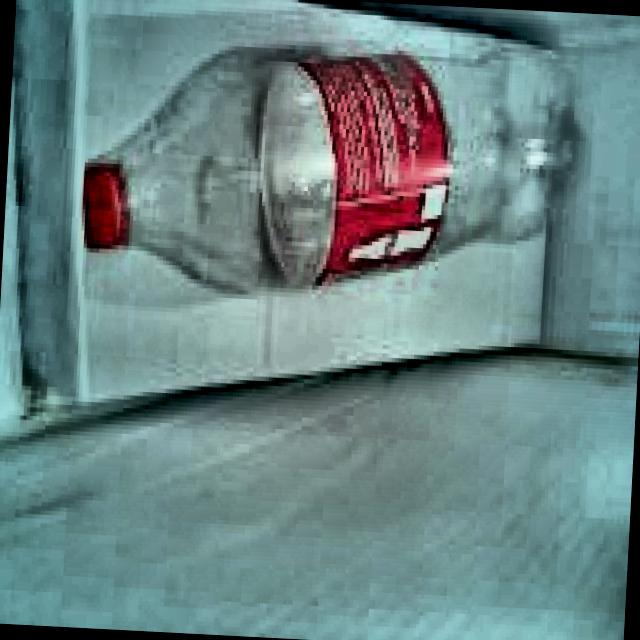plastic bottle: (81, 41, 585, 294)
